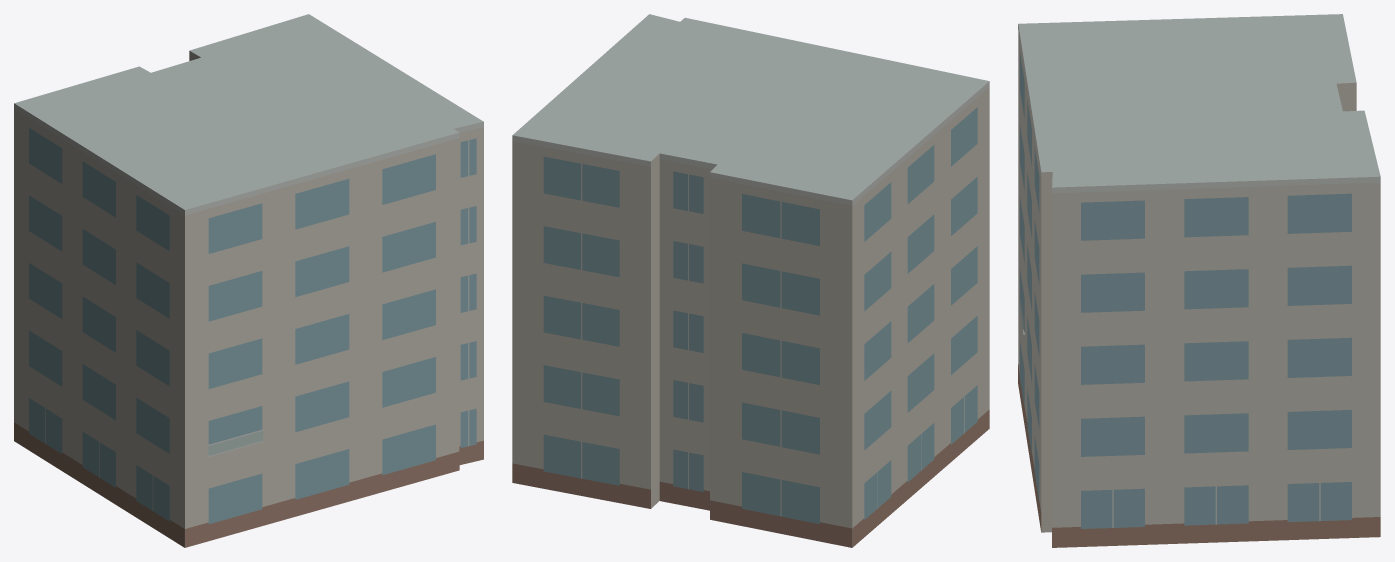
Rendered from survey-upis-32739384.glb.
3 renders of one model, left to right at view 1: azimuth 30°, elevation 25°; view 2: azimuth 150°, elevation 25°; view 3: azimuth 270°, elevation 25°, orthographic. The views are drawn at different scales.
Parts seen in each view (by area): view 1: survey-upis-32739384.tmp; view 2: survey-upis-32739384.tmp; view 3: survey-upis-32739384.tmp.
Part boxes in pixels (box(x1,y1,x2,y2)): survey-upis-32739384.tmp: box(14, 14, 483, 547); survey-upis-32739384.tmp: box(512, 14, 989, 547); survey-upis-32739384.tmp: box(1018, 14, 1380, 547).
Size of the model in its own units: 15.76 by 15.25 by 13.91.
